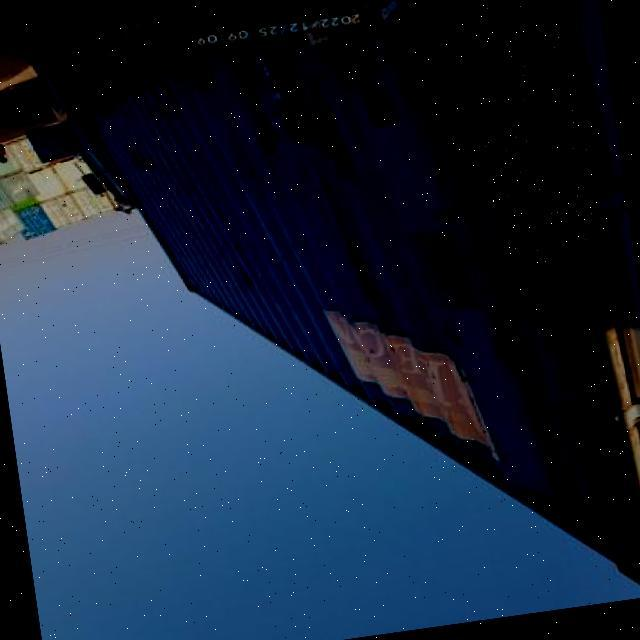Rust: (462, 0, 602, 271)
